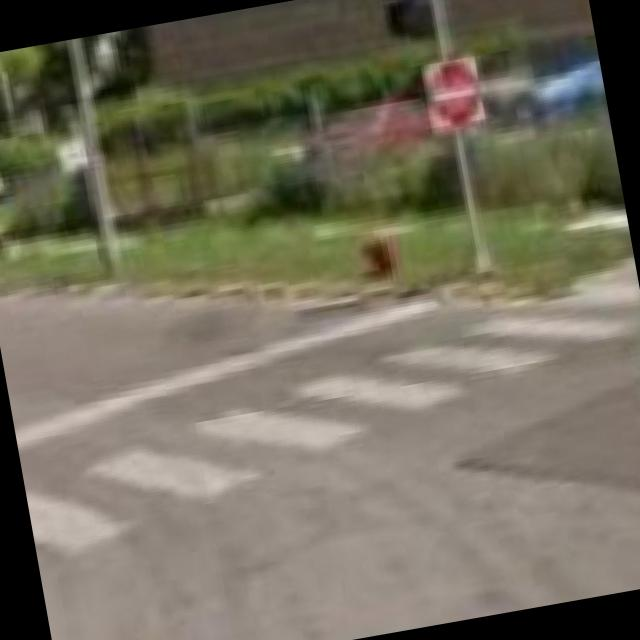zebra: (12, 276, 640, 583)
